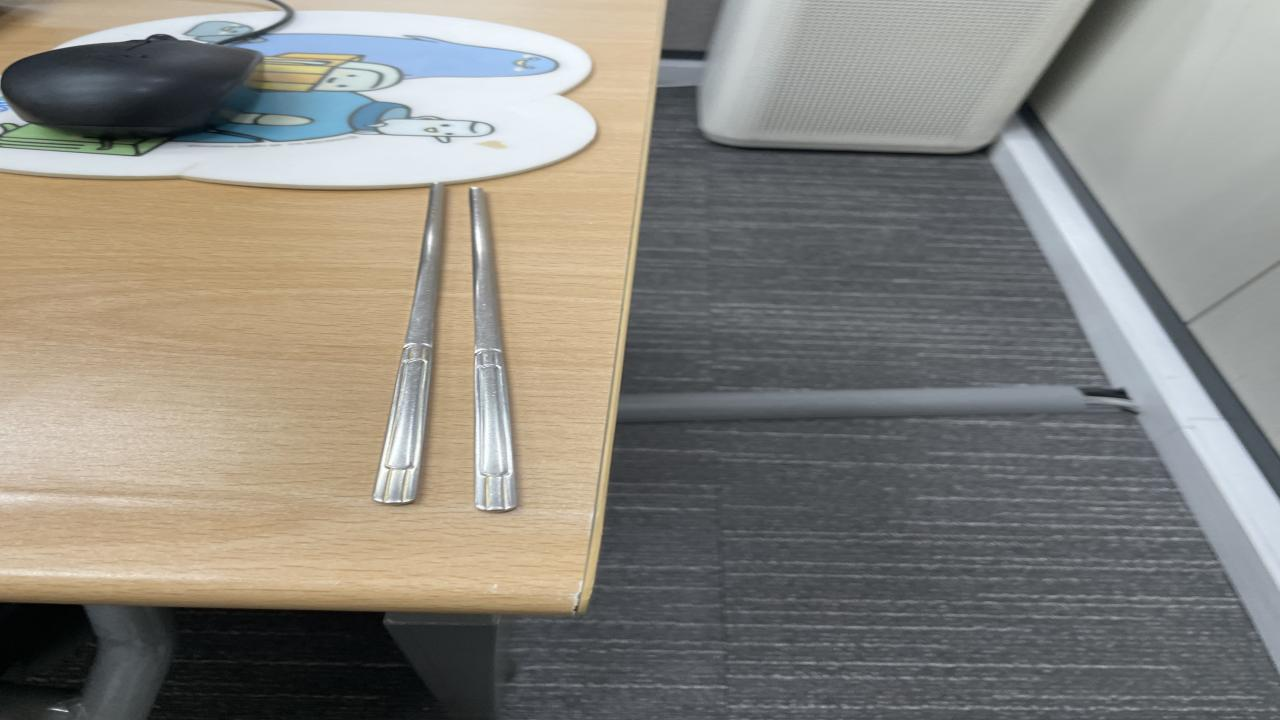chopstick: (376, 184, 516, 508)
